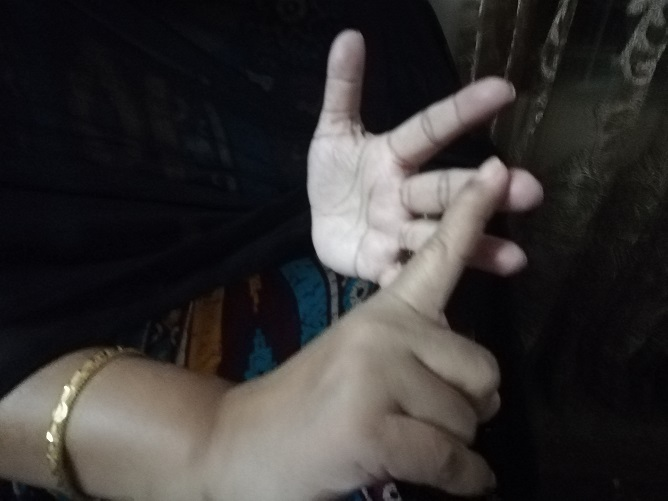u: (310, 32, 539, 482)
